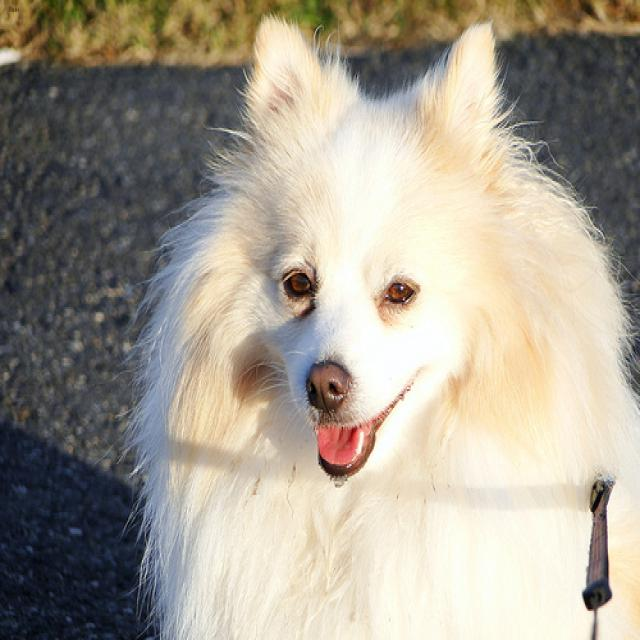dog-pomeranian: (118, 3, 637, 637)
